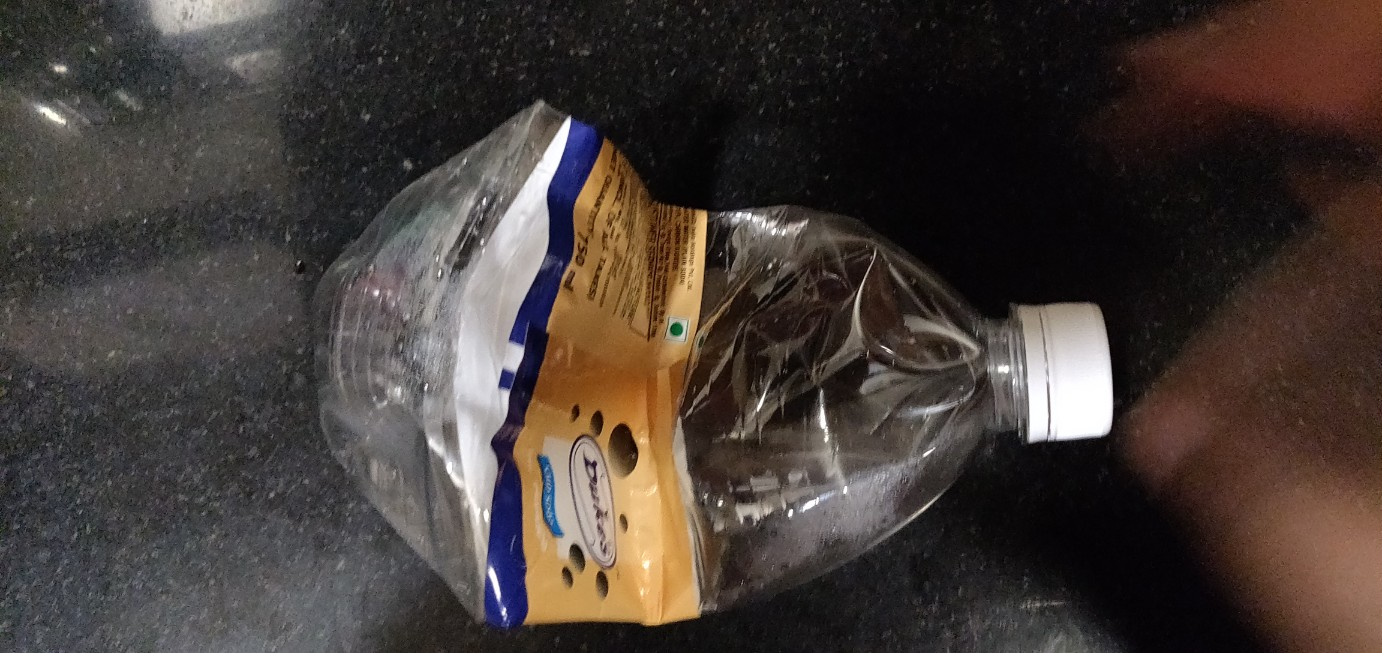Electronics: (269, 62, 1169, 638)
